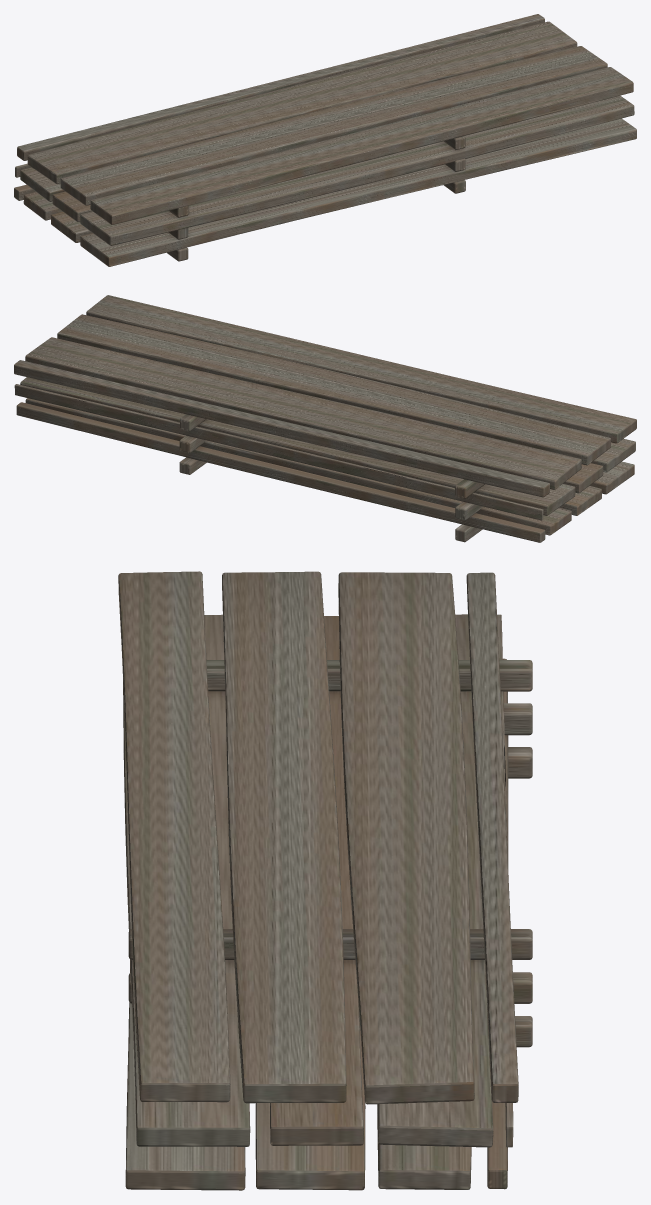
The model's file is plank_stack.glb.
3 renders of one model, top to bottom at view 1: azimuth 30°, elevation 25°; view 2: azimuth 150°, elevation 25°; view 3: azimuth 270°, elevation 25°, orthographic. The views are drawn at different scales.
Parts seen in each view (by area): view 1: plank_stack; view 2: plank_stack; view 3: plank_stack.
Boxes of the visible parts, left/top/right/bottom form: plank_stack: left=14, top=14, right=636, bottom=266; plank_stack: left=14, top=295, right=636, bottom=542; plank_stack: left=118, top=571, right=532, bottom=1190.
Bounding box in the file's own units: 2.4 × 0.2903 × 0.8208.
1 material, 1 textured.
